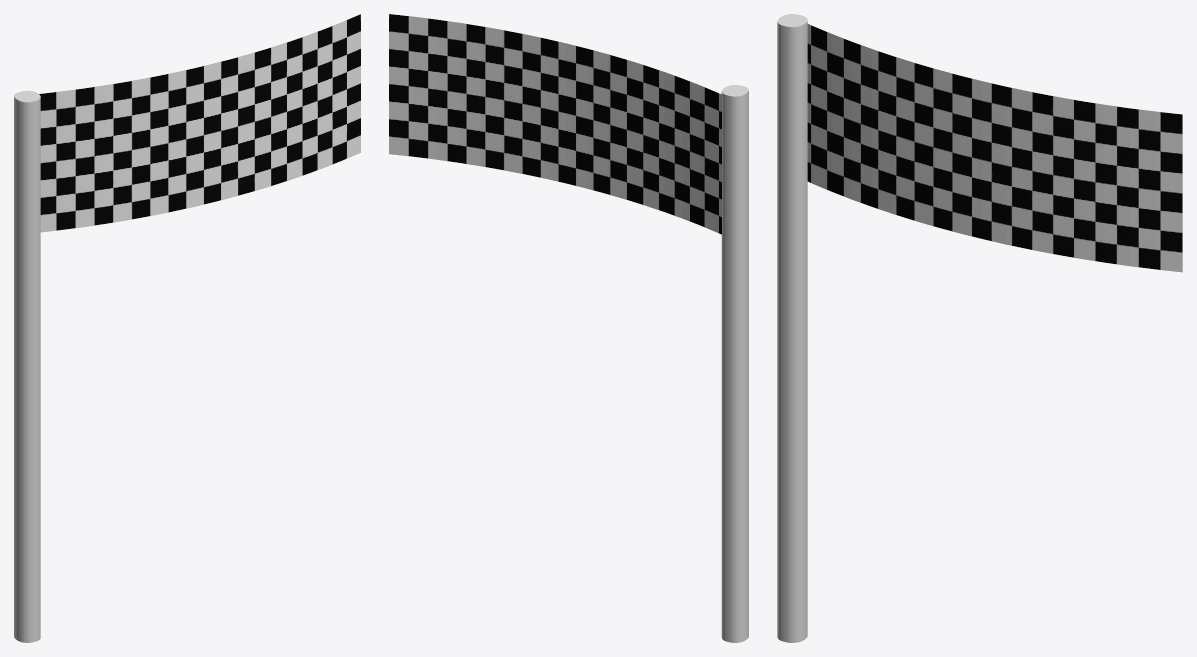
Rendered from FinishLineFlag.fbx.
The picture shows the model from 3 angles, left to right: view 1: azimuth 30°, elevation 25°; view 2: azimuth 150°, elevation 25°; view 3: azimuth 330°, elevation 25°; orthographic projection. The views are drawn at different scales.
Visible parts, largest first — view 1: Plane, Cube; view 2: Plane, Cube; view 3: Plane, Cube.
Boxes of the visible parts, x1,y1,x2,y2 form: Plane: (39,14,360,232); Cube: (14,90,40,642); Plane: (389,14,721,234); Cube: (721,85,748,642); Plane: (807,24,1182,272); Cube: (777,14,807,642).
Size of the model in its own units: 1.35 by 2 by 0.1087.
Materials: 1 (1 with a texture image).
